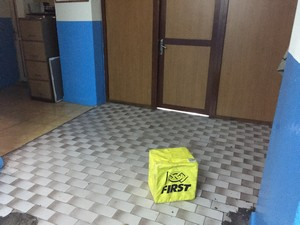cube: (150, 147, 198, 204)
